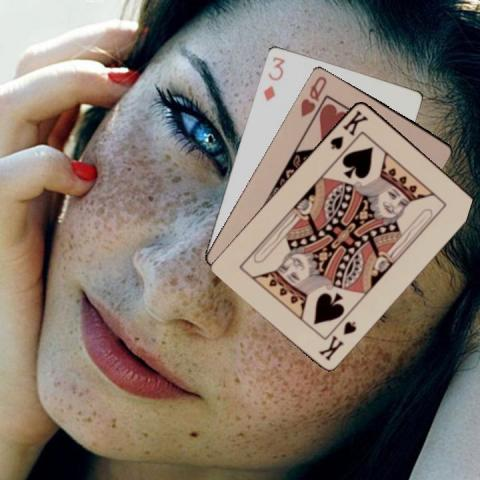3d: (260, 54, 287, 104)
Ks: (327, 106, 370, 150), (315, 318, 358, 362)
Qh: (297, 72, 329, 119)
